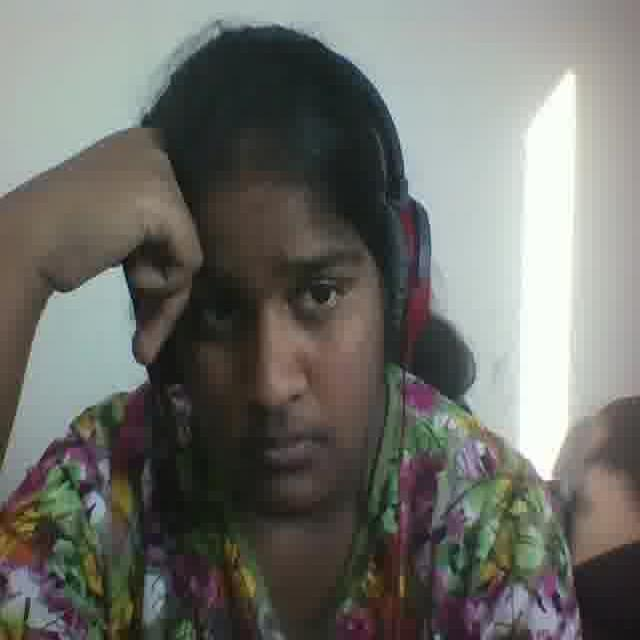Boredom: (163, 163, 383, 532)
